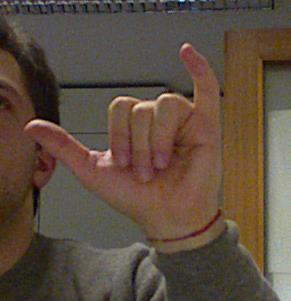clockwise: (20, 36, 226, 221)
